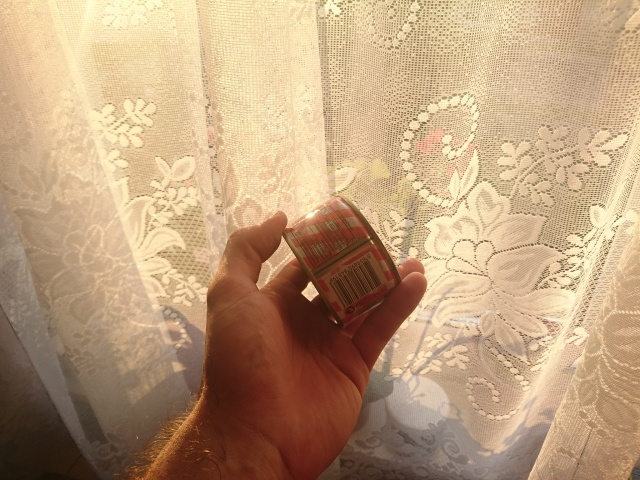Podravka Luncheon Meat 150g: (278, 191, 408, 332)
